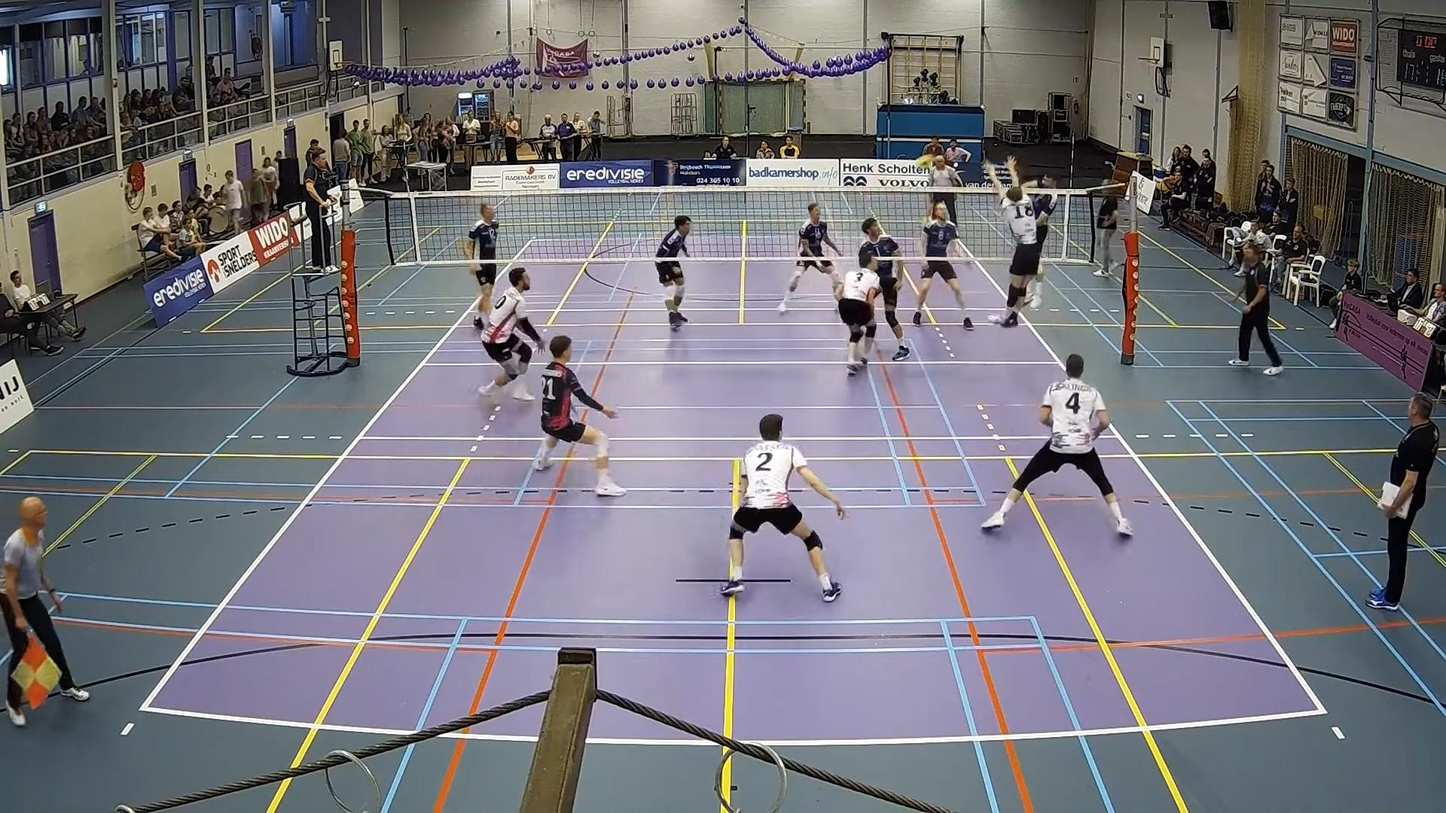Attack: (1018, 162, 1055, 314)
Block: (985, 158, 1056, 326)
Player: (982, 355, 1132, 535), (721, 414, 846, 601), (534, 335, 625, 496), (479, 266, 541, 402), (912, 202, 973, 330), (861, 217, 910, 361), (777, 202, 840, 312), (837, 247, 880, 374), (464, 203, 498, 329), (655, 215, 691, 330)
ball: (911, 154, 934, 174)
